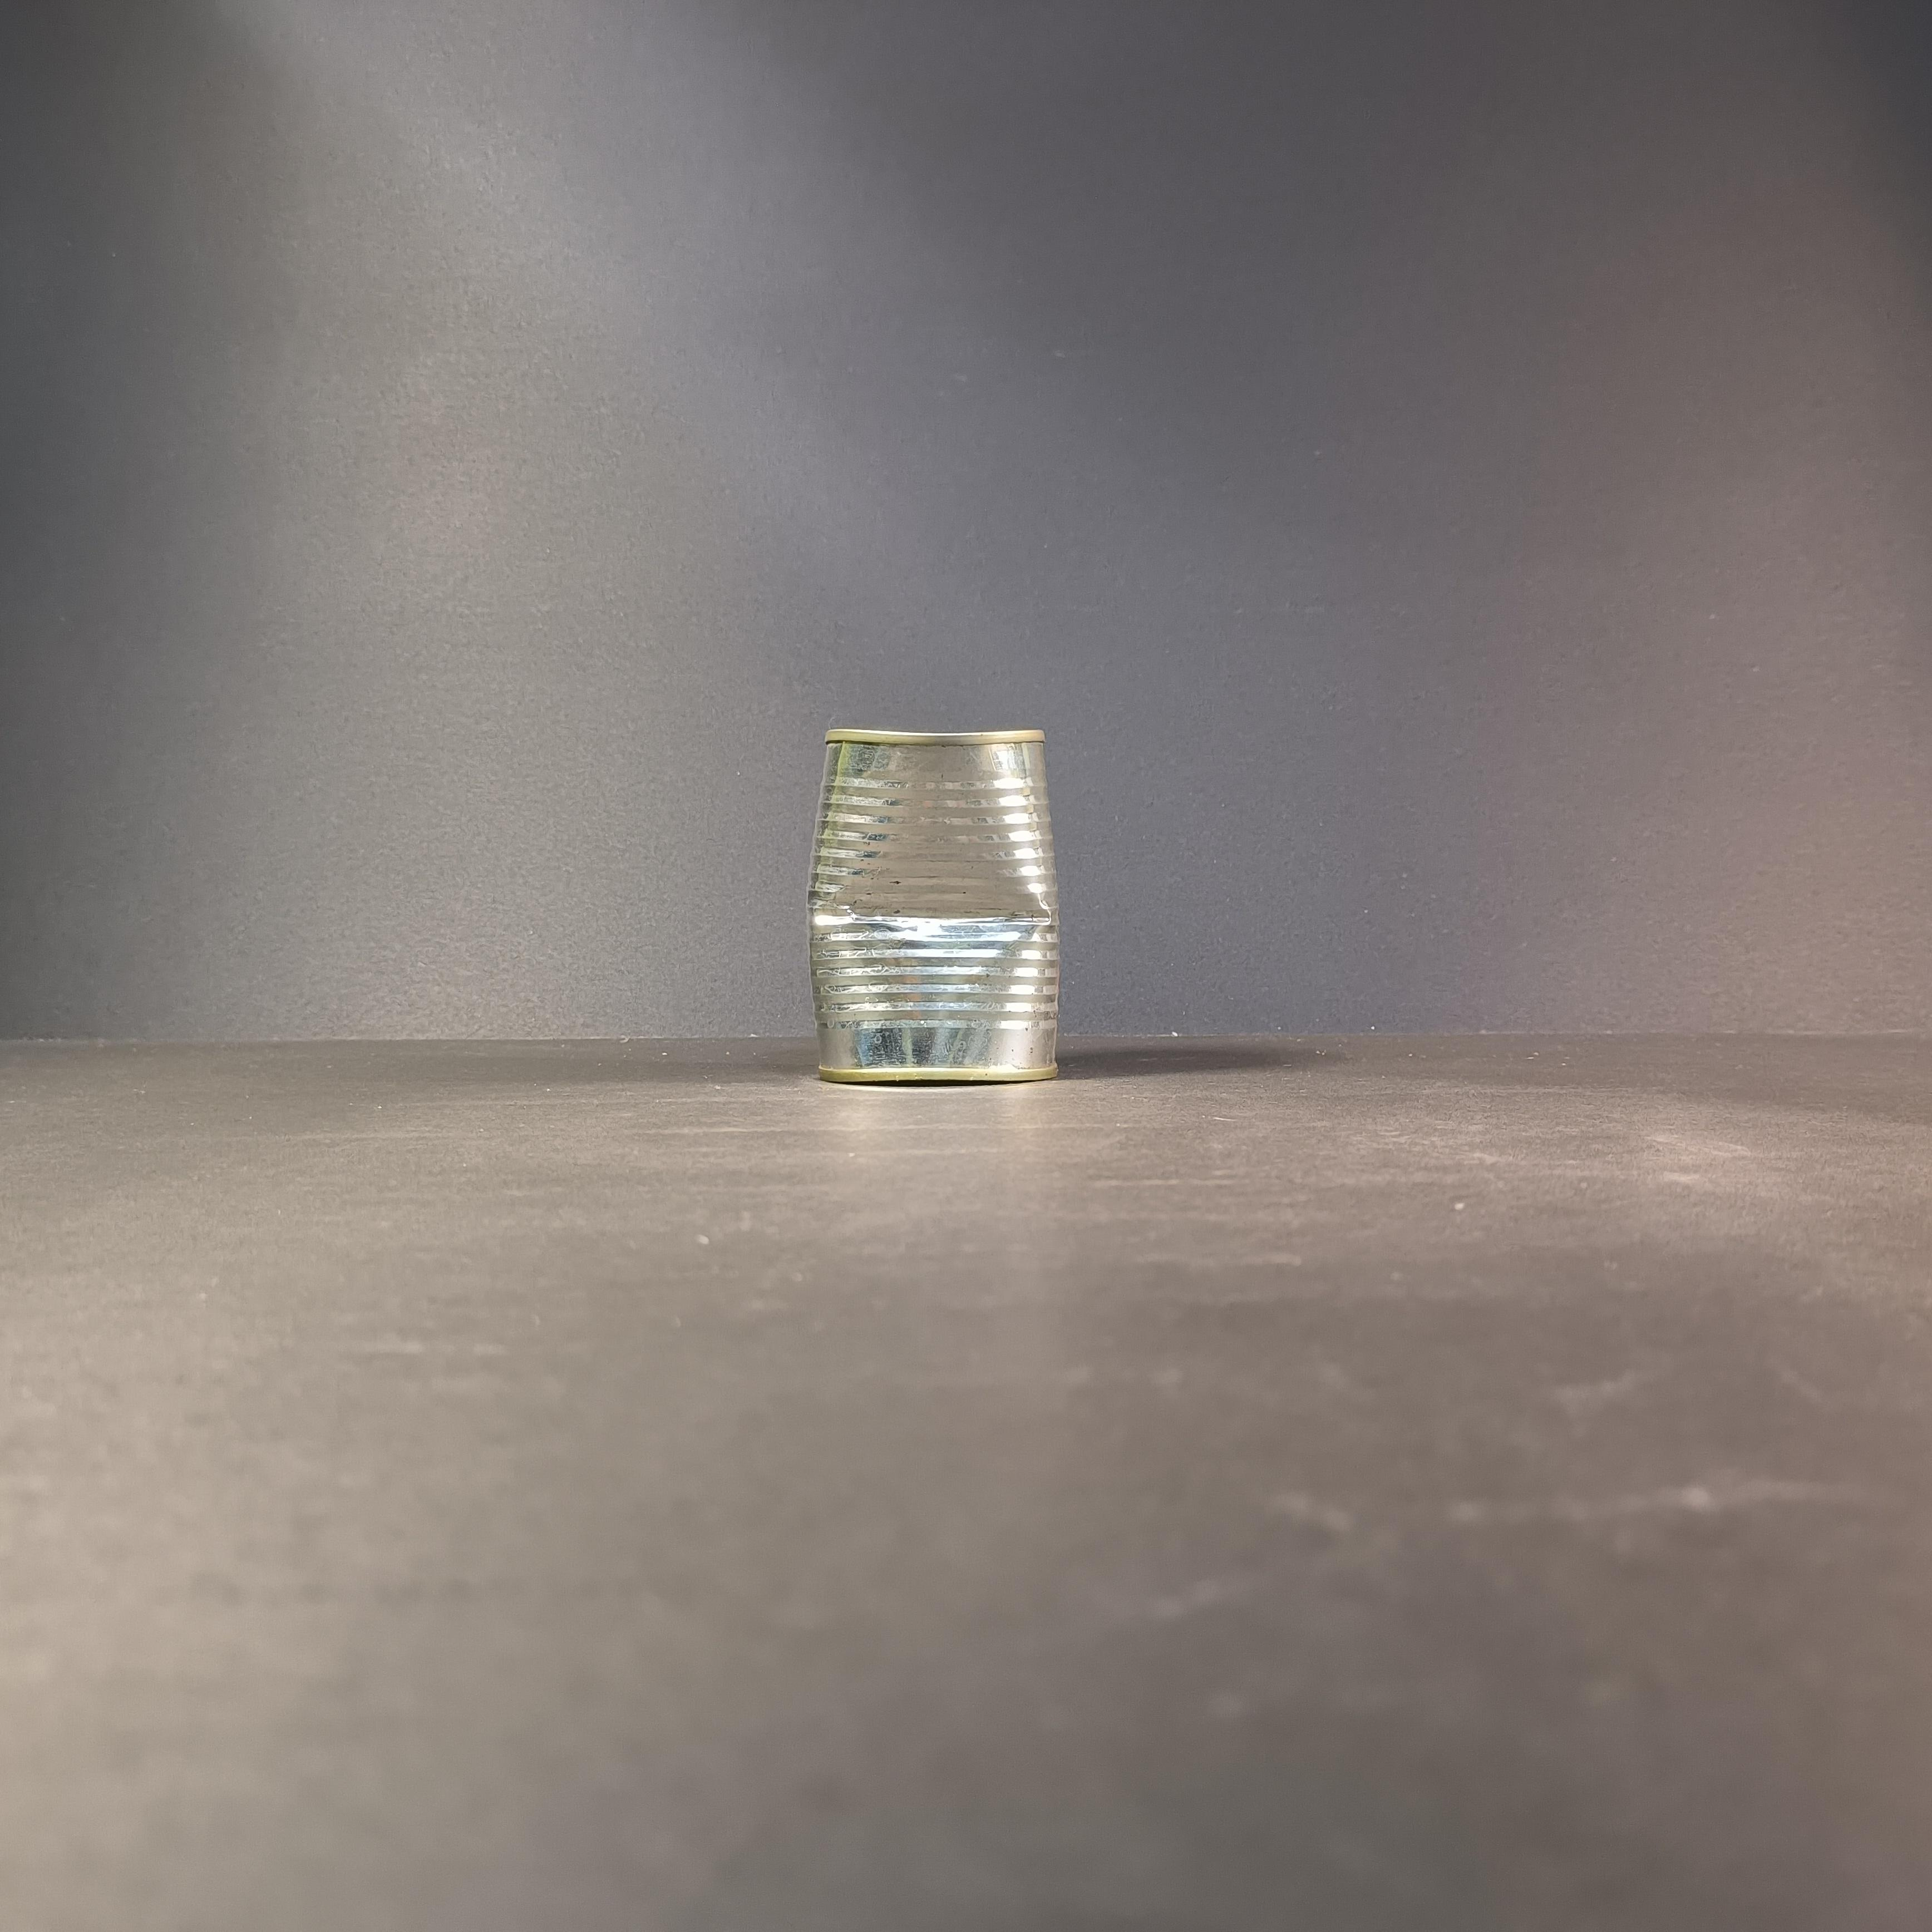Major Defect: (805, 728, 1061, 1083)
